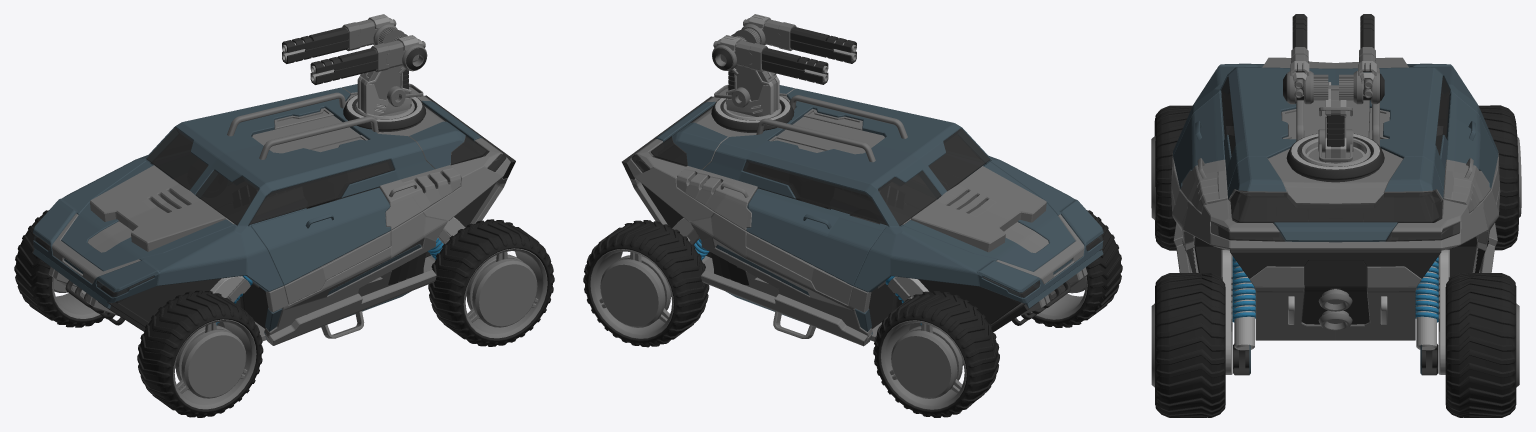
Rendered from uploads_files_6009519_Armored+Truck.fbx.
The picture shows the model from 3 angles, left to right: view 1: azimuth 30°, elevation 25°; view 2: azimuth 150°, elevation 25°; view 3: azimuth 270°, elevation 25°; orthographic projection. The views are drawn at different scales.
Visible parts, largest first — view 1: Plane.012, Cylinder.114, Cylinder.113, Cylinder.102, Cylinder.115, Cylinder.103, Cylinder.107, Cylinder.109; view 2: Plane.012, Cylinder.115, Cylinder.108, Cylinder.102, Cylinder.114, Cylinder.103, Cylinder.112, Cylinder.110; view 3: Plane.012, Cylinder.108, Cylinder.113, Cylinder.102, Cylinder.115, Cylinder.114, Cylinder.109, Cylinder.110, Cylinder.103.
Boxes of the visible parts, x1,y1,x2,y2 form: Plane.012: (32, 84, 515, 345); Cylinder.114: (137, 290, 263, 417); Cylinder.113: (428, 219, 554, 346); Cylinder.102: (282, 14, 427, 84); Cylinder.115: (14, 210, 109, 327); Cylinder.103: (355, 65, 423, 119); Cylinder.107: (210, 275, 252, 325); Cylinder.109: (428, 217, 465, 259); Plane.012: (622, 85, 1103, 346); Cylinder.115: (873, 291, 999, 417); Cylinder.108: (583, 220, 709, 347); Cylinder.102: (712, 14, 856, 84); Cylinder.114: (1026, 210, 1122, 327); Cylinder.103: (714, 65, 781, 120); Cylinder.112: (885, 276, 928, 324); Cylinder.110: (672, 218, 709, 260); Plane.012: (1171, 57, 1500, 340); Cylinder.108: (1445, 273, 1519, 417); Cylinder.113: (1151, 273, 1225, 417); Cylinder.102: (1283, 14, 1384, 104); Cylinder.115: (1479, 105, 1521, 250); Cylinder.114: (1151, 105, 1192, 250); Cylinder.109: (1221, 249, 1255, 375); Cylinder.110: (1415, 249, 1449, 375); Cylinder.103: (1300, 82, 1370, 166).
Size of what is drawn, in the model's own units: 862 by 550 by 568.
